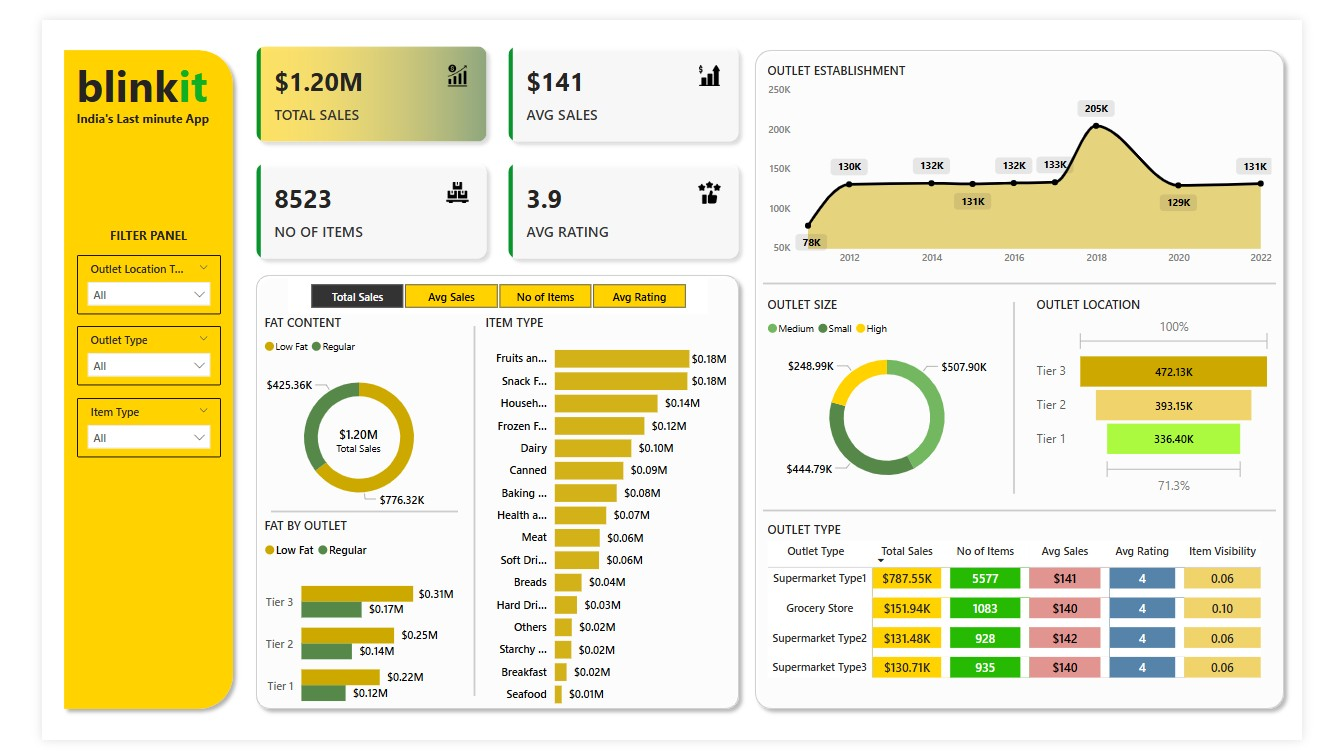

What the dashboard file says about the page in this screenshot:
{"tool":"powerbi","page":{"name":"Page 1","canvas":[1400,800],"ordinal":0},"visuals":[{"type":"shape","box":[15.6,24.4,205.6,750],"z":0},{"type":"textbox","box":[33.3,34.4,171.1,75.6],"z":1000},{"type":"textbox","box":[33.3,95.6,171.1,26.7],"z":2000},{"type":"cardVisual","fields":{"Data":["BlinkIT Grocery Data.Total Sales","BlinkIT Grocery Data.Avg Sales","BlinkIT Grocery Data.No of Items","BlinkIT Grocery Data.Avg Rating"]},"box":[221.1,12.2,570,270],"z":3000},{"type":"shape","box":[228.9,274.4,554.4,500],"z":4000},{"type":"donutChart","title":"FAT CONTENT","fields":{"Y":["BlinkIT Grocery Data.Total Sales"],"Category":["BlinkIT Grocery Data.Item Fat Content"]},"box":[242.2,326.7,220,230],"z":5000},{"type":"slicer","fields":{"Values":["Metrics.Metrics"]},"box":[273.3,286.7,465.6,40],"z":6000},{"type":"cardVisual","fields":{"Data":["BlinkIT Grocery Data.Total Sales"]},"box":[305.6,434.4,92.2,57.8],"z":7000},{"type":"clusteredBarChart","title":"FAT BY OUTLET","fields":{"Y":["BlinkIT Grocery Data.Total Sales"],"Category":["BlinkIT Grocery Data.Outlet Location Type"],"Series":["BlinkIT Grocery Data.Item Fat Content"]},"box":[242.2,552.2,220,230],"z":8000},{"type":"shape","box":[254.4,540,207.8,12.2],"z":9000},{"type":"shape","box":[473.3,340,14.4,411.1],"z":10000},{"type":"barChart","title":"ITEM TYPE","fields":{"Y":["BlinkIT Grocery Data.Total Sales"],"Category":["BlinkIT Grocery Data.Item Type"]},"box":[487.8,326.7,277.8,447.8],"z":11000},{"type":"shape","box":[783.3,24.4,605.6,750],"z":12000},{"type":"lineChart","title":"OUTLET ESTABLISHMENT","fields":{"Y":["Sum(BlinkIT Grocery Data.Sales)"],"Category":["BlinkIT Grocery Data.Outlet Establishment Year"]},"box":[801.1,46.7,570,235.6],"z":13000},{"type":"shape","box":[801.1,286.7,570,12.2],"z":14000},{"type":"donutChart","title":"OUTLET SIZE","fields":{"Y":["BlinkIT Grocery Data.Total Sales"],"Category":["BlinkIT Grocery Data.Outlet Size"]},"box":[801.1,306.7,275.6,225.6],"z":15000},{"type":"shape","box":[1073.3,313.3,13.3,213.3],"z":16000},{"type":"funnel","title":"OUTLET LOCATION","fields":{"Category":["BlinkIT Grocery Data.Outlet Location Type"],"Y":["Sum(BlinkIT Grocery Data.Sales)"]},"box":[1100,306.7,271.1,225.6],"z":17000},{"type":"shape","box":[801.1,538.9,570,12.2],"z":18000},{"type":"pivotTable","title":"OUTLET TYPE","fields":{"Rows":["BlinkIT Grocery Data.Outlet Type"],"Values":["BlinkIT Grocery Data.Total Sales","BlinkIT Grocery Data.No of Items","BlinkIT Grocery Data.Avg Sales","BlinkIT Grocery Data.Avg Rating","Avg(BlinkIT Grocery Data.Item Visibility)"]},"box":[801.1,556.7,570,200],"z":19000},{"type":"slicer","fields":{"Values":["BlinkIT Grocery Data.Outlet Location Type"]},"box":[38.9,261.1,160,65.6],"z":20000},{"type":"slicer","fields":{"Values":["BlinkIT Grocery Data.Outlet Type"]},"box":[38.9,340,160,65.6],"z":21000},{"type":"slicer","fields":{"Values":["BlinkIT Grocery Data.Item Type"]},"box":[38.9,420,160,65.6],"z":22000},{"type":"textbox","box":[57.8,225.6,121.1,26.7],"z":23000}]}

Visuals, with their boxes in screenshot pixels (x1, y1, x2, y2), scaled from the page's 1400x800 canvas onto the 1323x752 screenshot:
shape: 15:23:209:728
textbox: 31:32:193:103
textbox: 31:90:193:115
cardVisual - BlinkIT Grocery Data.Total Sales x BlinkIT Grocery Data.Avg Sales: 209:11:748:265
shape: 216:258:740:728
"FAT CONTENT" donutChart: 229:307:437:523
slicer - Metrics.Metrics: 258:269:698:307
cardVisual - BlinkIT Grocery Data.Total Sales: 289:408:376:463
"FAT BY OUTLET" clusteredBarChart: 229:519:437:735
shape: 240:508:437:519
shape: 447:320:461:706
"ITEM TYPE" barChart: 461:307:723:728
shape: 740:23:1313:728
"OUTLET ESTABLISHMENT" lineChart: 757:44:1296:265
shape: 757:269:1296:281
"OUTLET SIZE" donutChart: 757:288:1017:500
shape: 1014:295:1027:495
"OUTLET LOCATION" funnel: 1040:288:1296:500
shape: 757:507:1296:518
"OUTLET TYPE" pivotTable: 757:523:1296:711
slicer - BlinkIT Grocery Data.Outlet Location Type: 37:245:188:307
slicer - BlinkIT Grocery Data.Outlet Type: 37:320:188:381
slicer - BlinkIT Grocery Data.Item Type: 37:395:188:456
textbox: 55:212:169:237
